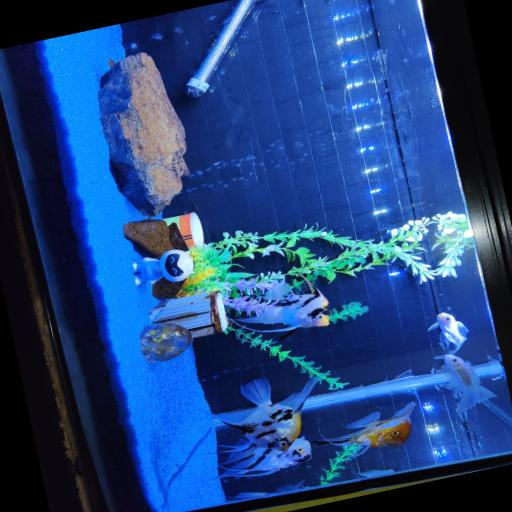Fish: (212, 377, 318, 451), (311, 401, 414, 456), (230, 277, 328, 331), (212, 435, 310, 479), (443, 354, 494, 412), (427, 312, 467, 353), (227, 480, 303, 500), (357, 468, 393, 477)
